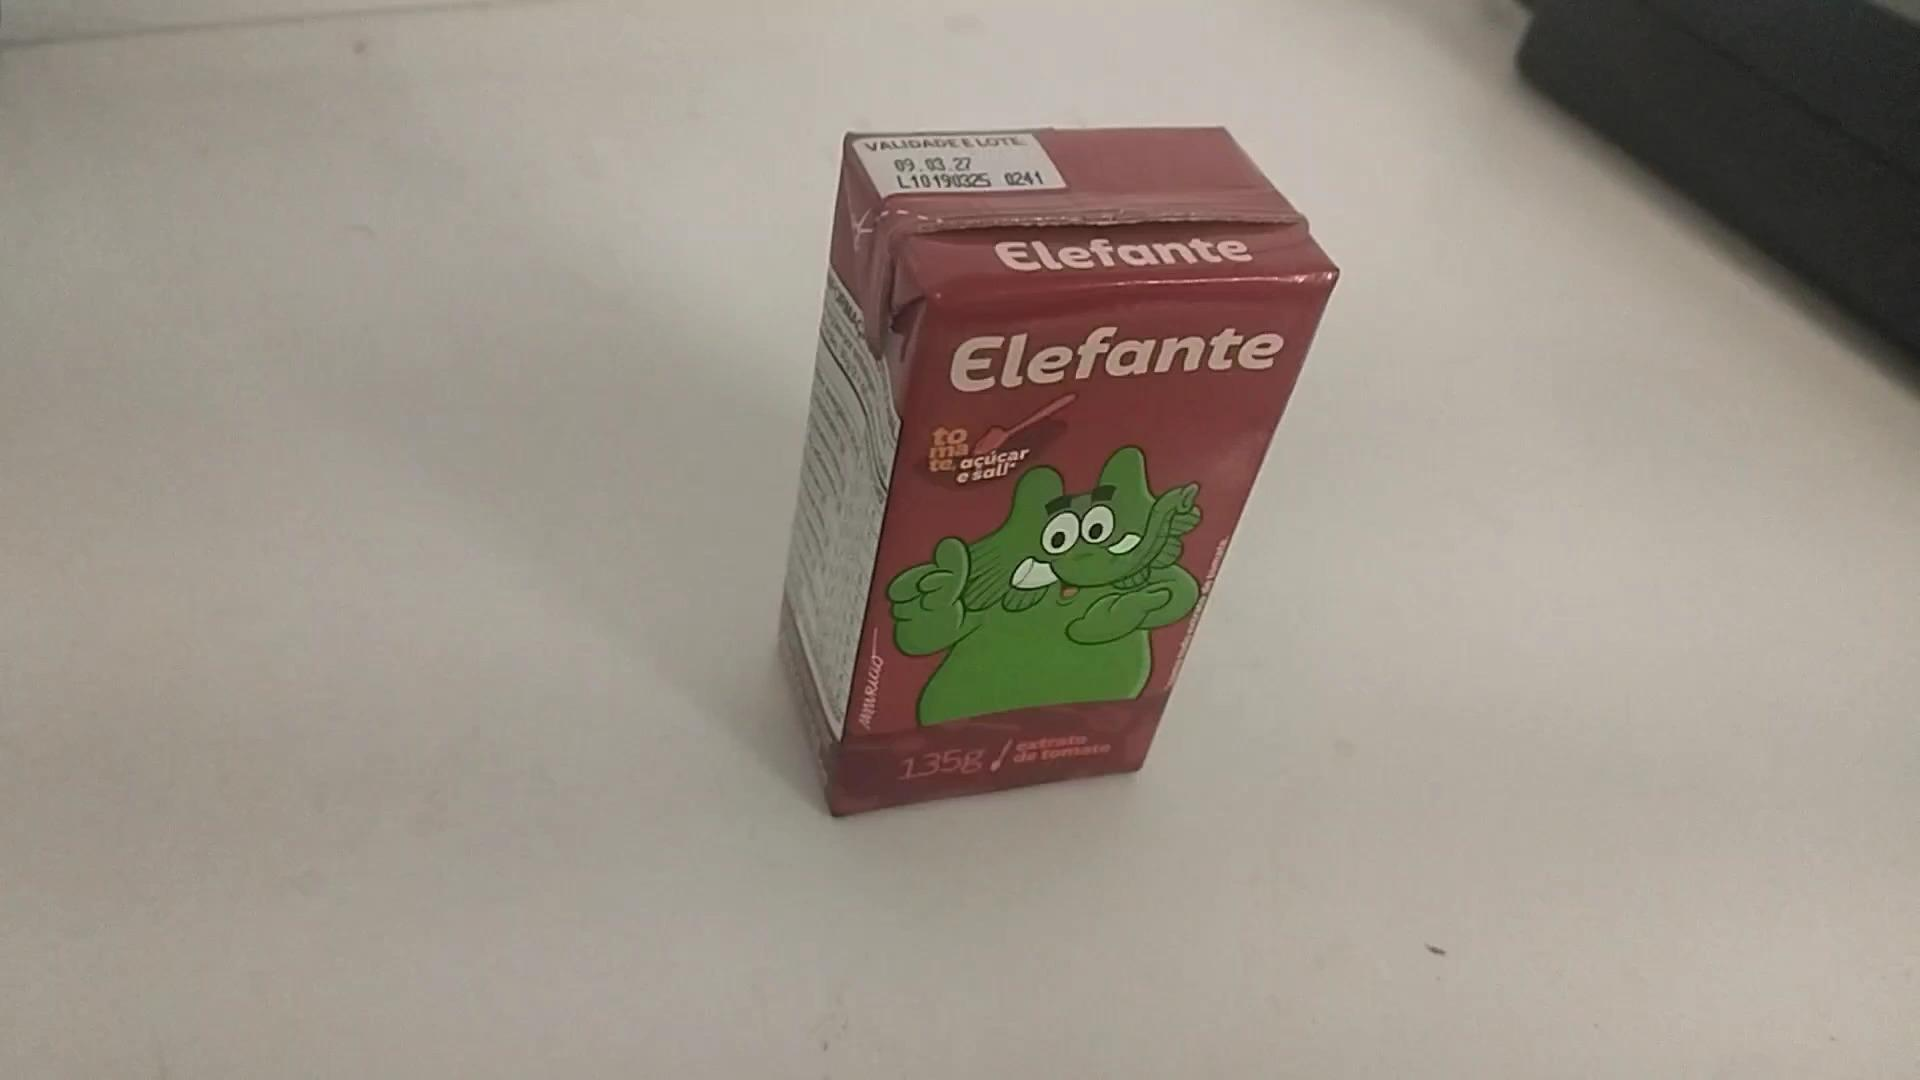tomate: (766, 105, 1345, 820)
